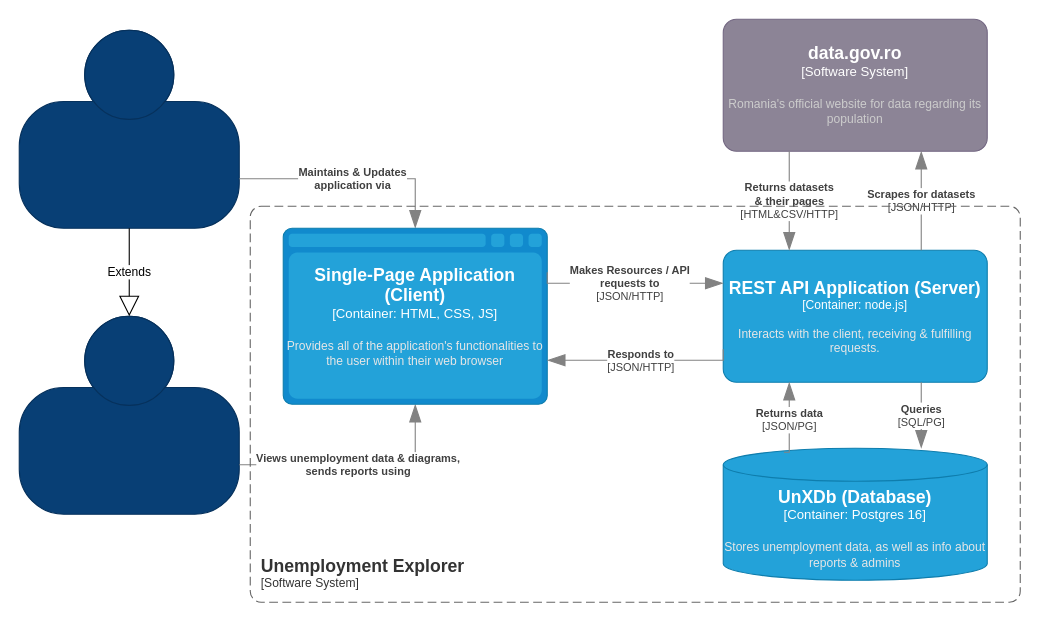
The diagram is 1040 pixels wide and 622 high, and some of its shapes have lost their labels. Each missing label, with the box of its shape:
Admin [Person] Person with administrator account that maintains the application: (18, 29, 239, 228)
User [Person] Person without account that uses the application: (18, 315, 239, 514)
